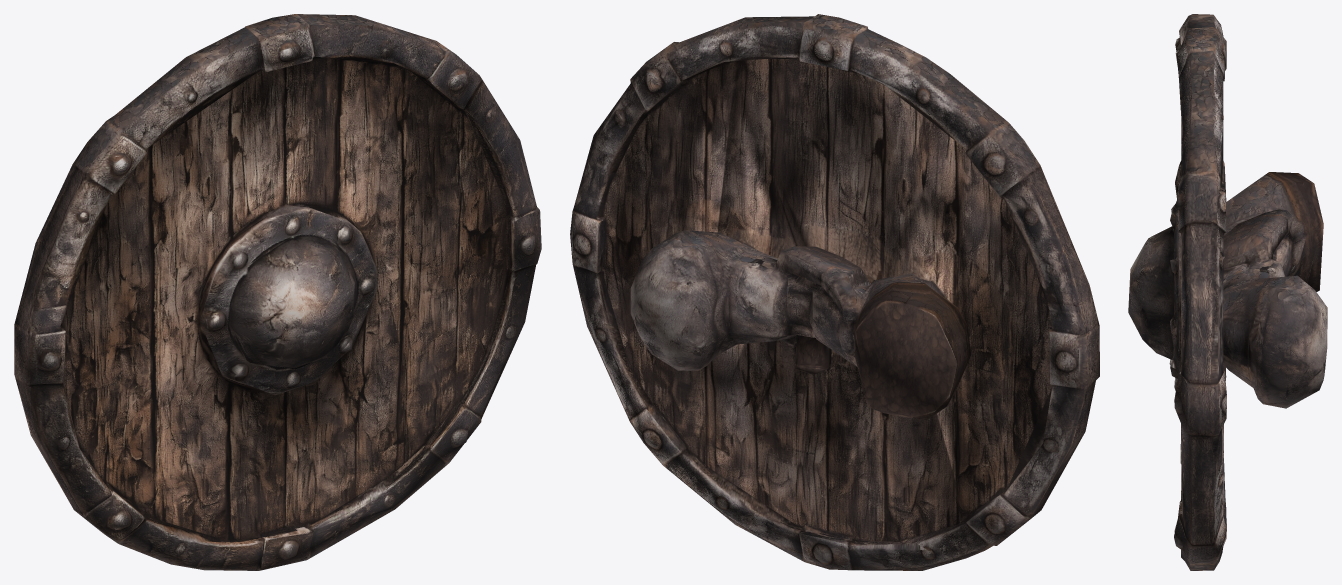
File: Common.glb
3 views of the same model, side by side, from view 1: azimuth 30°, elevation 25°; view 2: azimuth 150°, elevation 25°; view 3: azimuth 270°, elevation 25° (orthographic). The views are drawn at different scales.
Visible parts, largest first — view 1: Mesh1.0; view 2: Mesh1.0; view 3: Mesh1.0.
Boxes of the visible parts, x1,y1,x2,y2 form: Mesh1.0: (14,14,541,570); Mesh1.0: (570,14,1099,570); Mesh1.0: (1128,14,1327,570).
Bounding box in the file's own units: 1.9 × 1.9 × 0.6748.
Materials: 1 (1 with a texture image).
